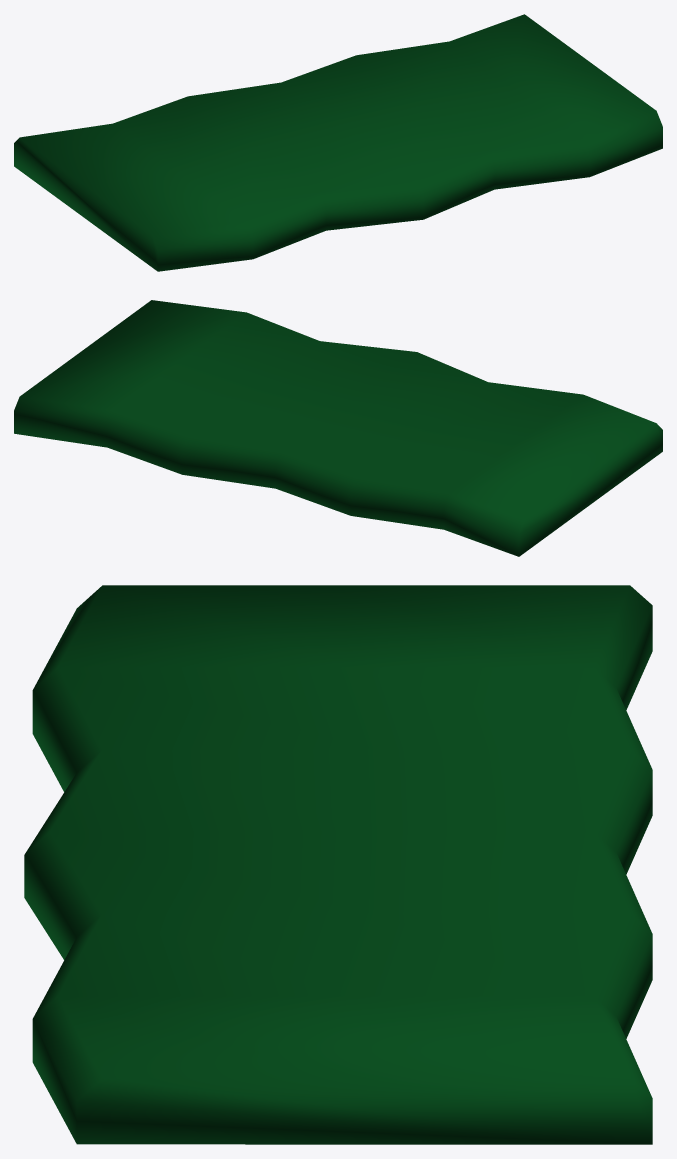
File: Grass Strip 1.fbx
The picture shows the model from 3 angles, top to bottom: view 1: azimuth 30°, elevation 25°; view 2: azimuth 150°, elevation 25°; view 3: azimuth 270°, elevation 25°; orthographic projection. The views are drawn at different scales.
Visible parts, largest first — view 1: Cube.171; view 2: Cube.171; view 3: Cube.171.
Part boxes in pixels (x1,y1,x2,y2): Cube.171: [14, 14, 662, 271]; Cube.171: [14, 300, 662, 556]; Cube.171: [24, 585, 652, 1144].
Bounding box in the file's own units: 3200 × 200 × 1723.
